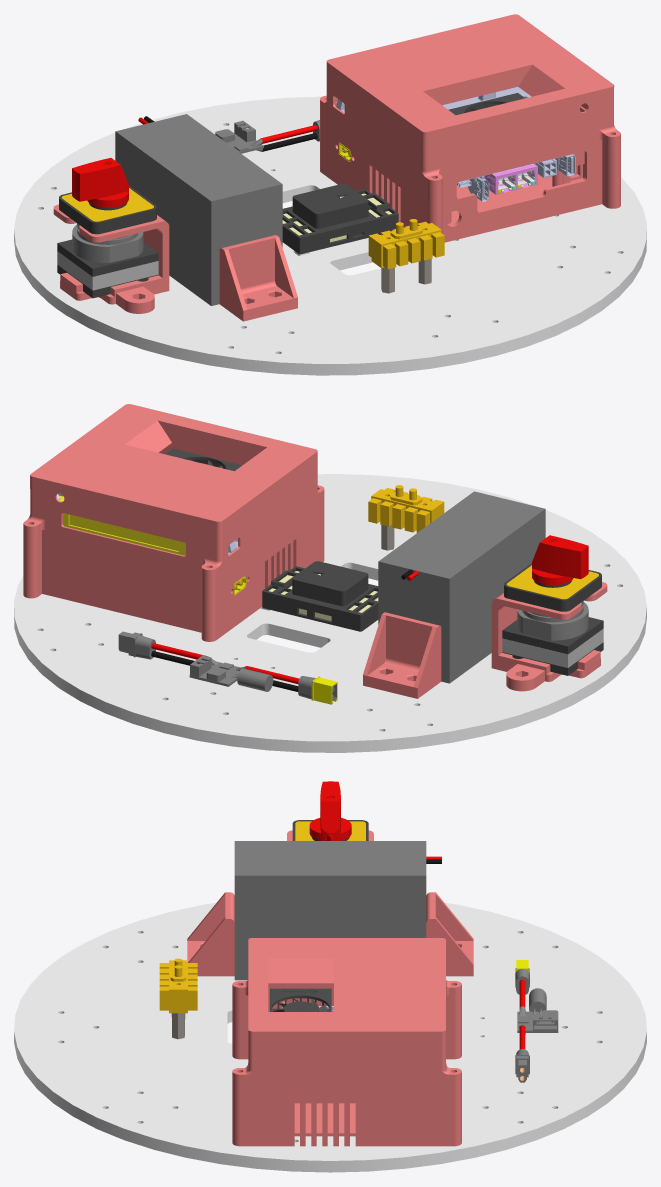
3 renders of one model, top to bottom at view 1: azimuth 30°, elevation 25°; view 2: azimuth 150°, elevation 25°; view 3: azimuth 270°, elevation 25°, orthographic.
Visible parts, largest first — view 1: alpha3_electronics_plate-1 - Part_clonedChild, jetson_housing_top_V2-1 - Part, battery_foxtech-1 - Part, jetson_housing_bot-1 - Part, PIXHAWK 6X MINI-1 - Part, battery_support-1 - Part, switch_mount-1 - Part, tarot_distributor-1 2 - Part, 9-1 - Part, 4-1 - Part, 7-1 - Part, 2-1 - Part (+6 smaller); view 2: alpha3_electronics_plate-1 - Part_clonedChild, jetson_housing_top_V2-1 - Part, jetson_housing_bot-1 - Part, battery_foxtech-1 - Part, PIXHAWK 6X MINI-1 - Part, battery_support-2 - Part, switch_mount-1 - Part, PM02D-1 - Part, tarot_distributor-1 2 - Part, 9-1 - Part, usb_hub-1 - Part, 4-1 - Part (+7 smaller); view 3: alpha3_electronics_plate-1 - Part_clonedChild, jetson_housing_top_V2-1 - Part, battery_foxtech-1 - Part, jetson_housing_bot-1 - Part, battery_support-1 - Part, battery_support-2 - Part, PM02D-1 - Part, tarot_distributor-1 2 - Part, 9-1 - Part, Body - Part 130, 8-1 - Part.
Boxes of the visible parts, <box> form: alpha3_electronics_plate-1 - Part_clonedChild: <box>14,96,646,375</box>; jetson_housing_top_V2-1 - Part: <box>320,14,620,187</box>; battery_foxtech-1 - Part: <box>115,114,282,305</box>; jetson_housing_bot-1 - Part: <box>320,102,620,242</box>; PIXHAWK 6X MINI-1 - Part: <box>282,183,398,254</box>; battery_support-1 - Part: <box>219,235,297,321</box>; switch_mount-1 - Part: <box>53,204,169,313</box>; tarot_distributor-1 2 - Part: <box>368,219,444,269</box>; 9-1 - Part: <box>72,158,128,207</box>; 4-1 - Part: <box>72,224,143,262</box>; 7-1 - Part: <box>59,185,156,234</box>; 2-1 - Part: <box>57,251,158,290</box>; alpha3_electronics_plate-1 - Part_clonedChild: <box>14,474,646,752</box>; jetson_housing_top_V2-1 - Part: <box>23,404,324,577</box>; jetson_housing_bot-1 - Part: <box>23,497,324,641</box>; battery_foxtech-1 - Part: <box>378,491,545,683</box>; PIXHAWK 6X MINI-1 - Part: <box>262,561,378,631</box>; battery_support-2 - Part: <box>363,612,441,698</box>; switch_mount-1 - Part: <box>491,582,607,691</box>; PM02D-1 - Part: <box>118,631,336,701</box>; tarot_distributor-1 2 - Part: <box>368,485,444,532</box>; 9-1 - Part: <box>532,535,588,585</box>; usb_hub-1 - Part: <box>59,496,185,555</box>; 4-1 - Part: <box>517,602,588,640</box>; alpha3_electronics_plate-1 - Part_clonedChild: <box>14,902,646,1172</box>; jetson_housing_top_V2-1 - Part: <box>232,938,461,1081</box>; battery_foxtech-1 - Part: <box>234,841,426,980</box>; jetson_housing_bot-1 - Part: <box>232,983,461,1146</box>; battery_support-1 - Part: <box>187,892,234,976</box>; battery_support-2 - Part: <box>426,892,473,976</box>; PM02D-1 - Part: <box>515,968,558,1082</box>; tarot_distributor-1 2 - Part: <box>159,958,197,1013</box>; 9-1 - Part: <box>309,781,351,840</box>; Body - Part 130: <box>270,988,331,1011</box>; 8-1 - Part: <box>295,821,365,840</box>.
Size of the model in its own units: 0.4 by 0.0925 by 0.3998.
